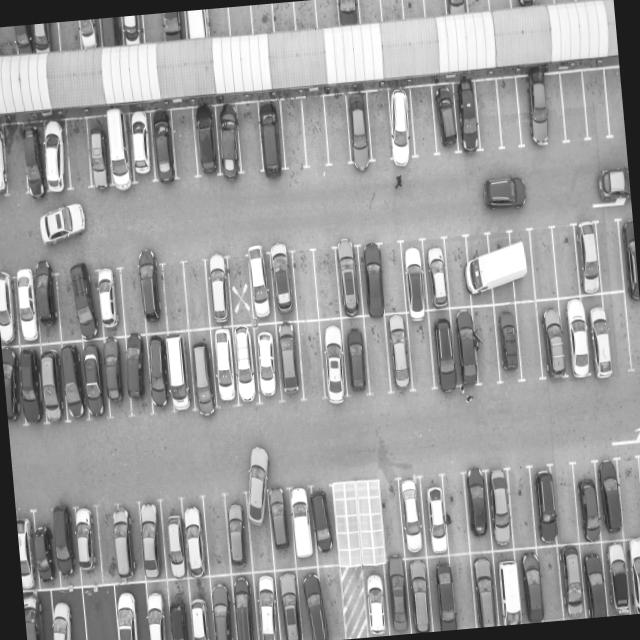car: (568, 296, 606, 379), (559, 294, 596, 377), (426, 309, 461, 391), (187, 328, 220, 412), (536, 300, 570, 380), (338, 314, 372, 394), (459, 469, 492, 551), (449, 306, 482, 388), (394, 475, 426, 558), (162, 330, 194, 413), (419, 473, 451, 555), (208, 326, 240, 408), (492, 547, 526, 624), (34, 342, 66, 423), (586, 292, 618, 373), (483, 230, 518, 304), (272, 320, 304, 400), (491, 300, 523, 380), (252, 322, 284, 402), (178, 497, 210, 577), (384, 88, 418, 163), (520, 74, 554, 148), (72, 505, 104, 583), (382, 313, 413, 393), (108, 578, 148, 640), (485, 468, 516, 548), (137, 500, 168, 580), (527, 466, 558, 546), (104, 111, 136, 188), (598, 537, 630, 614), (574, 465, 606, 542), (317, 314, 347, 396), (59, 341, 89, 423), (14, 344, 44, 426), (247, 568, 281, 640), (469, 550, 501, 626), (554, 544, 586, 620), (40, 586, 85, 640), (124, 334, 154, 414), (228, 326, 258, 406), (578, 539, 609, 616), (266, 485, 294, 570), (429, 83, 462, 155), (246, 248, 278, 322), (40, 120, 72, 194), (227, 569, 260, 640), (288, 486, 318, 564), (402, 554, 432, 632), (110, 504, 140, 582), (266, 248, 298, 321), (570, 223, 602, 296), (464, 232, 496, 305), (362, 564, 394, 637), (80, 338, 108, 421), (202, 256, 234, 328), (210, 104, 242, 176), (355, 244, 387, 316), (224, 490, 252, 572), (190, 105, 221, 179), (124, 110, 155, 184), (380, 560, 410, 636), (426, 554, 456, 630), (295, 564, 325, 640), (96, 266, 128, 337), (102, 333, 130, 414), (344, 90, 374, 165), (514, 549, 544, 624), (158, 498, 186, 578), (145, 332, 173, 412), (10, 272, 40, 346), (275, 566, 305, 640), (50, 508, 79, 584), (149, 110, 179, 183), (506, 229, 536, 302), (205, 572, 237, 640), (420, 240, 451, 310), (256, 100, 286, 172), (308, 489, 336, 566), (30, 511, 58, 588), (20, 123, 48, 200), (400, 242, 430, 312), (453, 83, 482, 155), (31, 269, 60, 341), (75, 266, 104, 338), (334, 247, 364, 316), (185, 576, 217, 640), (598, 462, 624, 540), (142, 577, 174, 640), (139, 262, 168, 331), (85, 116, 112, 190), (162, 576, 193, 640), (16, 516, 40, 594), (1, 346, 22, 424), (618, 218, 638, 292), (22, 589, 50, 640), (0, 270, 19, 344), (627, 534, 640, 611), (98, 16, 125, 48), (29, 22, 56, 53), (182, 8, 208, 40), (120, 14, 146, 45), (160, 11, 185, 41), (77, 18, 101, 49), (12, 24, 34, 55), (334, 0, 360, 26), (0, 122, 9, 197), (444, 0, 470, 14), (511, 0, 553, 7)
free: (242, 485, 274, 573), (293, 320, 326, 400), (404, 313, 438, 390), (602, 291, 634, 372), (312, 564, 346, 640), (469, 304, 502, 382), (512, 302, 544, 381), (360, 314, 392, 392), (375, 481, 405, 564), (507, 470, 538, 550), (440, 474, 470, 556), (200, 494, 230, 576), (444, 552, 476, 628), (80, 581, 121, 640), (1, 124, 32, 200), (406, 86, 438, 159), (169, 107, 201, 180), (235, 102, 267, 175), (322, 91, 353, 166), (222, 253, 253, 328), (374, 243, 406, 315), (527, 229, 558, 301), (277, 98, 308, 170), (594, 220, 624, 294), (536, 546, 566, 620), (64, 118, 94, 192), (552, 468, 580, 547), (472, 77, 502, 150), (364, 90, 394, 163), (310, 250, 341, 320), (442, 238, 472, 310), (494, 76, 524, 148), (560, 70, 590, 142), (301, 96, 331, 168), (183, 260, 213, 330), (550, 227, 580, 297), (288, 252, 318, 322), (582, 70, 612, 140), (96, 507, 123, 583), (161, 260, 190, 330), (119, 265, 148, 334), (56, 270, 84, 340), (333, 488, 358, 566), (616, 458, 640, 539), (542, 73, 566, 147), (603, 67, 625, 136), (623, 291, 640, 369), (291, 0, 317, 32), (270, 1, 296, 33), (249, 3, 274, 36), (141, 12, 166, 44), (58, 20, 82, 52), (314, 0, 340, 29), (227, 6, 252, 36), (207, 7, 230, 38), (355, 0, 381, 23), (379, 0, 405, 22), (0, 25, 17, 56), (402, 0, 427, 19), (421, 0, 447, 17), (464, 0, 488, 12), (486, 0, 511, 11)
